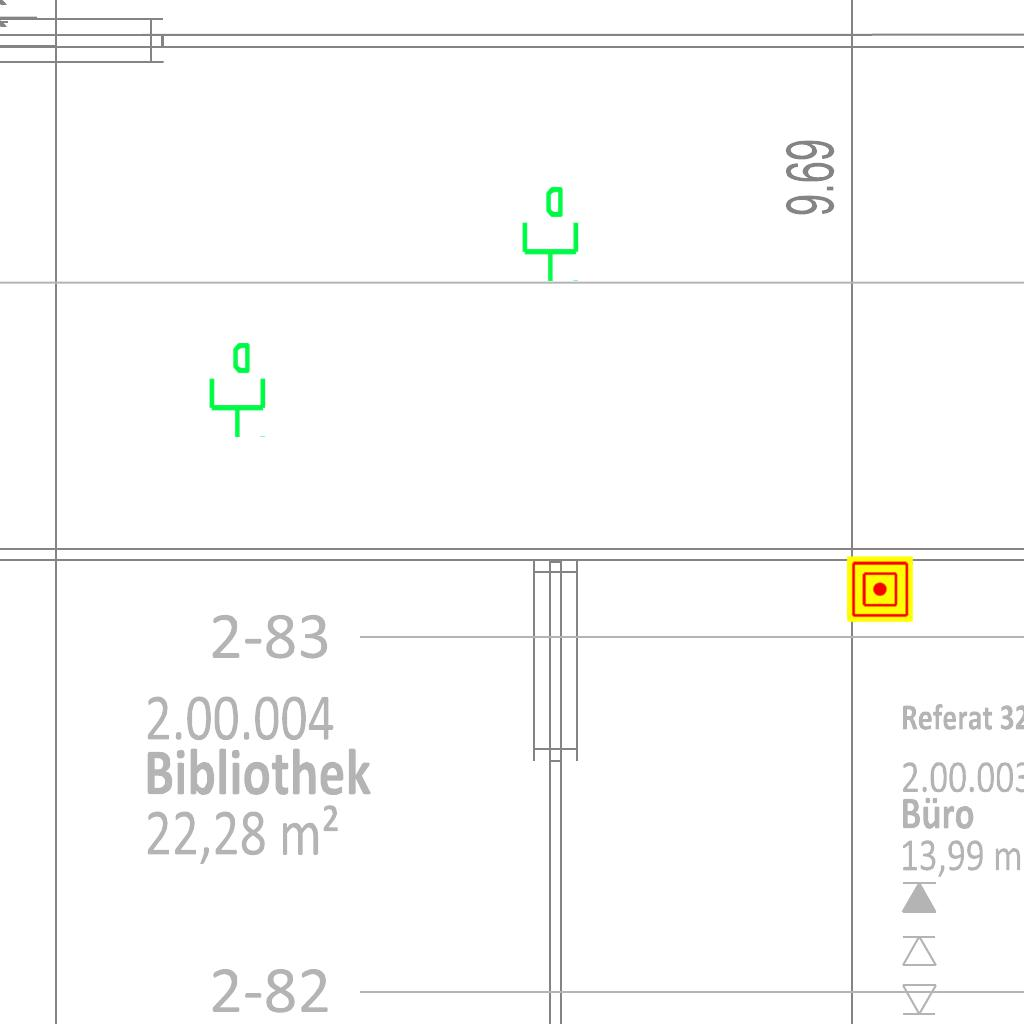Datenanschluss_einfach: (514, 184, 583, 284), (201, 340, 270, 440)
NAM-Nichtautomatischer_Melder: (847, 556, 913, 622)
